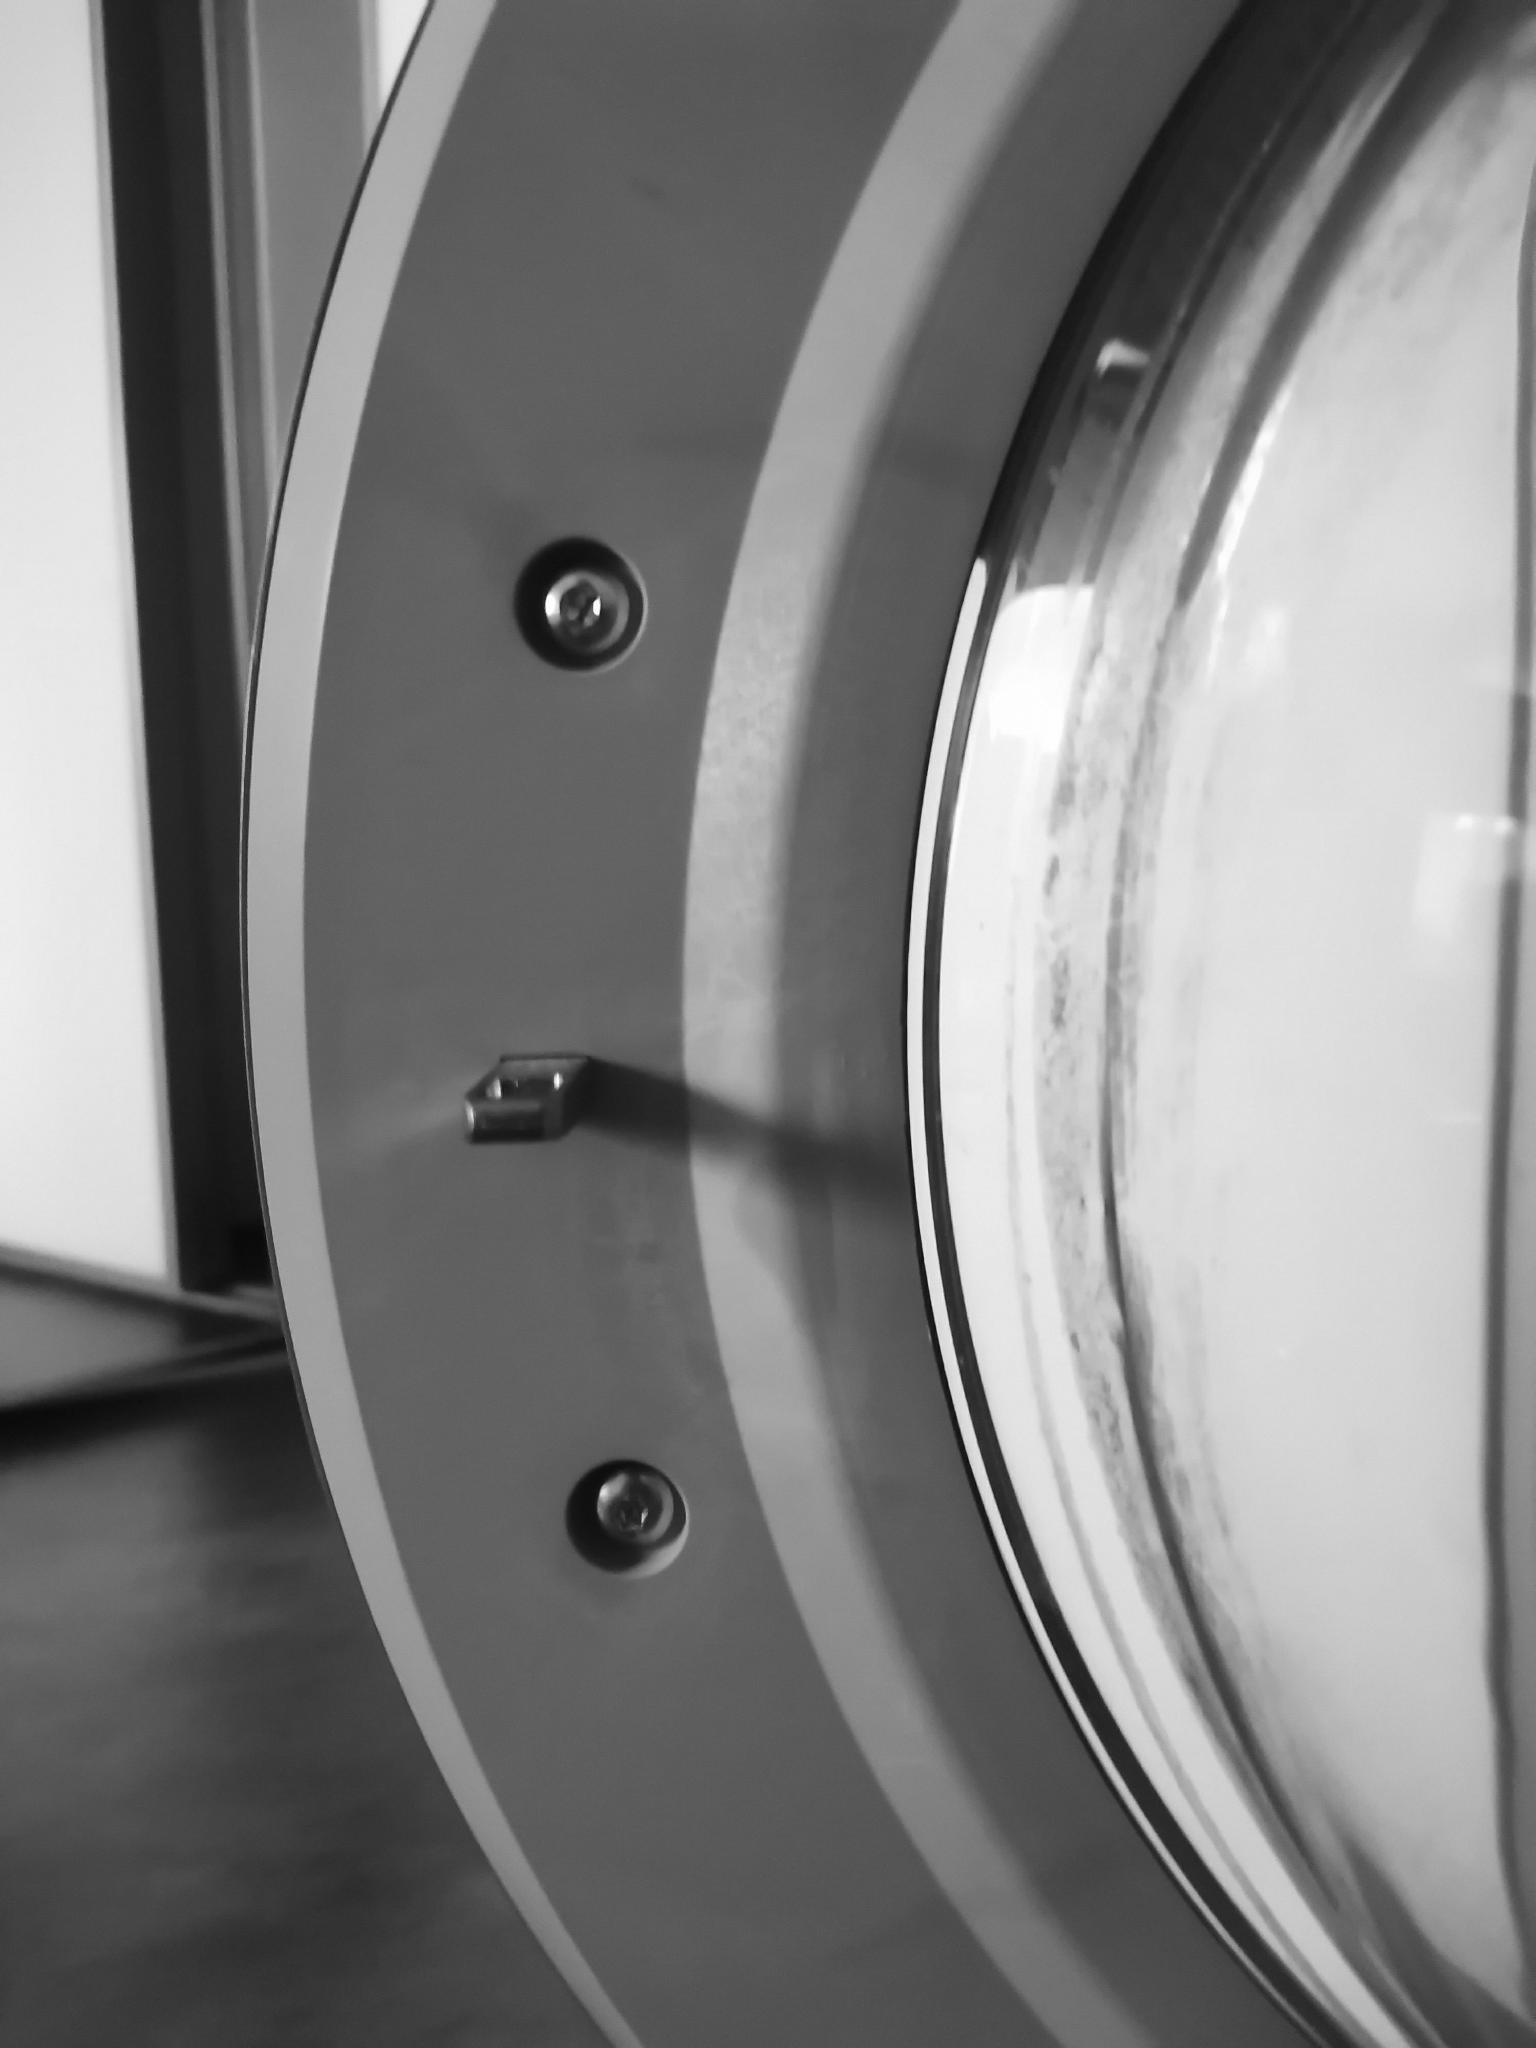screw: (524, 561, 642, 663), (584, 1458, 692, 1564)
